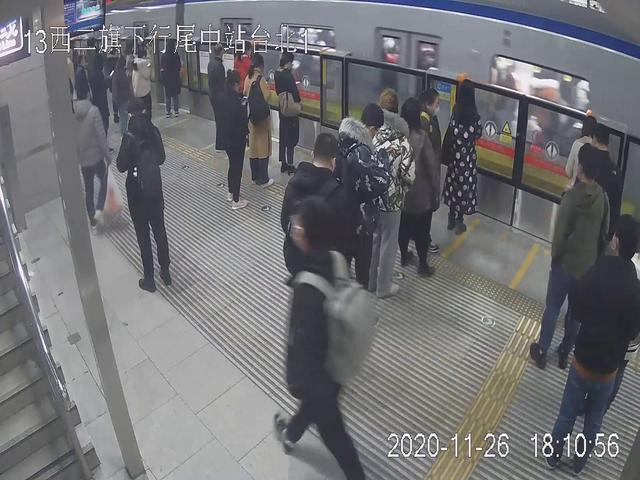person: (272, 197, 373, 480), (556, 212, 640, 480), (548, 142, 608, 368), (120, 96, 168, 295), (283, 127, 341, 282), (372, 87, 412, 298), (339, 100, 383, 286), (399, 96, 435, 279), (445, 76, 482, 234), (71, 84, 111, 224), (217, 69, 248, 207), (244, 52, 272, 187), (275, 50, 301, 176), (131, 46, 158, 126), (205, 40, 227, 136), (162, 36, 185, 116), (113, 55, 135, 137), (90, 52, 110, 139)
